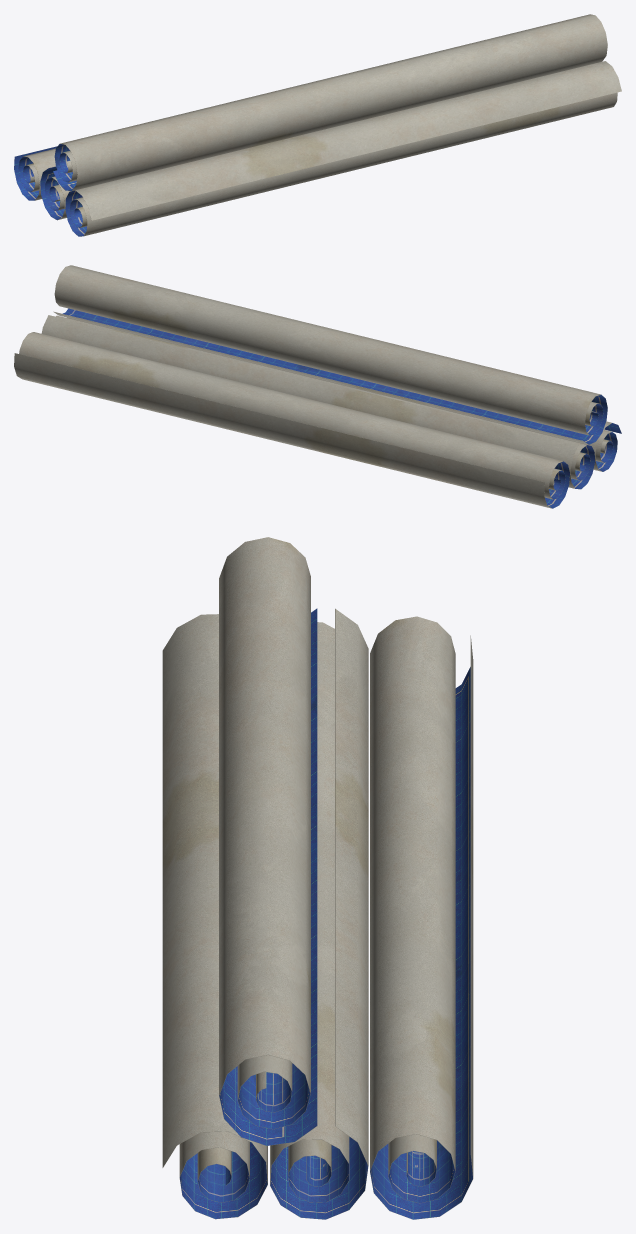
File: Blueprints04.FBX
The picture shows the model from 3 angles, top to bottom: view 1: azimuth 30°, elevation 25°; view 2: azimuth 150°, elevation 25°; view 3: azimuth 270°, elevation 25°; orthographic projection. The views are drawn at different scales.
Visible parts, largest first — view 1: Blueprint04; view 2: Blueprint04; view 3: Blueprint04.
Part boxes in pixels (x1,y1,x2,y2): Blueprint04: (14,14,621,236); Blueprint04: (14,265,621,508); Blueprint04: (162,537,473,1219).
Bounding box in the file's own units: 96.36 × 14.34 × 24.45.
